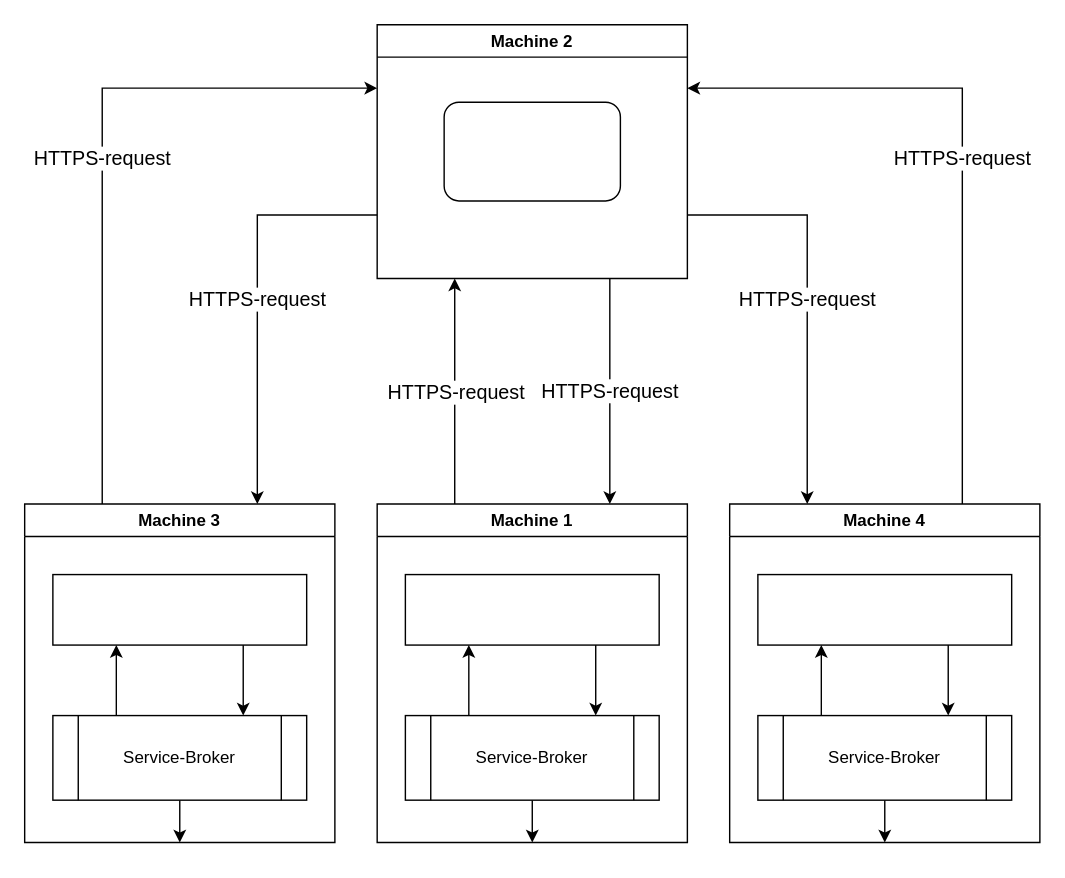
Image size: 1065x878. Some labels were removed from this diagram. Each missing label, with the centre of its shape:
Analitics service: the point at 884,609
Kafka: the point at 531,151
Solve-GIA service: the point at 531,609
Telegram bot service: the point at 179,609
